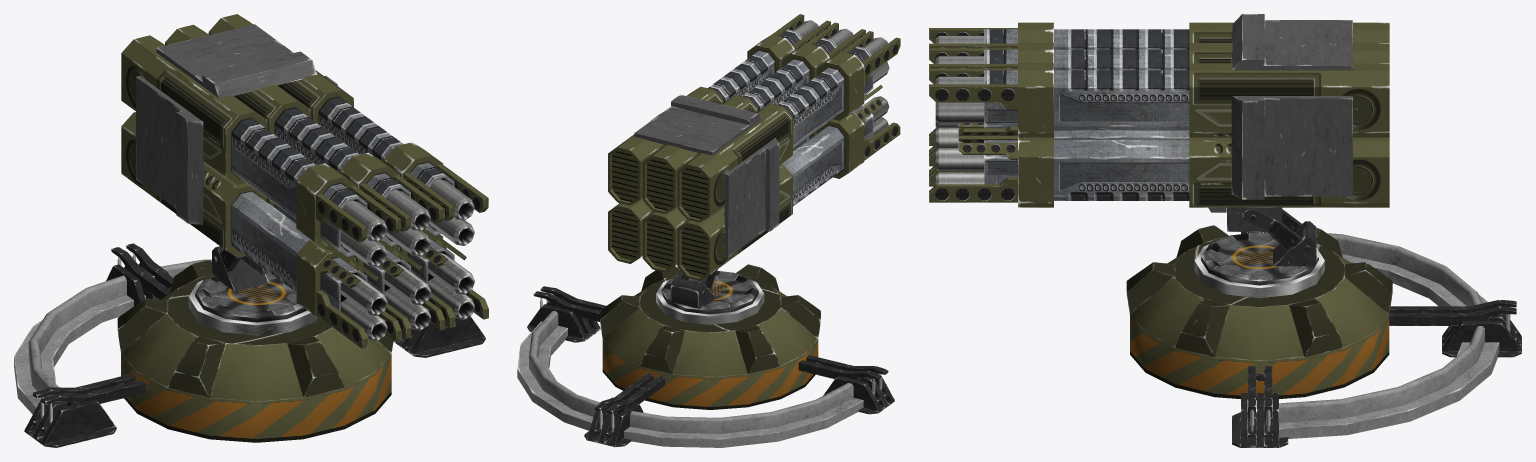
File: mini_turret_tower_08.fbx
3 renders of one model, left to right at view 1: azimuth 30°, elevation 25°; view 2: azimuth 150°, elevation 25°; view 3: azimuth 270°, elevation 25°, orthographic. The views are drawn at different scales.
Parts seen in each view (by area): view 1: barrels, body (×2), decor3, holder (×2), leg_bottom (×3), leg_arm (×2), decor (×2); view 2: body (×2), barrels, holder (×2), decor3, leg_arm (×3), leg_bottom (×3), decor (×2); view 3: body (×2), barrels, decor3, holder (×2), decor (×2), leg_bottom (×2), leg_arm (×2), decor2.
Boxes of the visible parts, x1,y1,x2,y2 form: barrels: (232,97,488,348); body (×2): (117,14,393,442); decor3: (136,24,337,224); holder (×2): (14,259,307,414); leg_bottom (×3): (24,262,485,447); leg_arm (×2): (33,243,173,433); decor (×2): (188,246,317,335); body (×2): (600,86,820,409); barrels: (708,14,900,205); holder (×2): (517,271,863,447); decor3: (619,94,779,257); leg_arm (×3): (533,286,888,437); leg_bottom (×3): (527,301,894,447); decor (×2): (656,269,764,324); body (×2): (1126,22,1392,400); barrels: (929,22,1189,207); decor3: (1231,14,1352,199); holder (×2): (1201,232,1499,438); decor (×2): (1194,207,1324,298); leg_bottom (×2): (1232,314,1521,447); leg_arm (×2): (1248,299,1516,437); decor2: (1208,207,1282,231).
Bounding box in the file's own units: 7.52 × 5.22 × 9.13.
